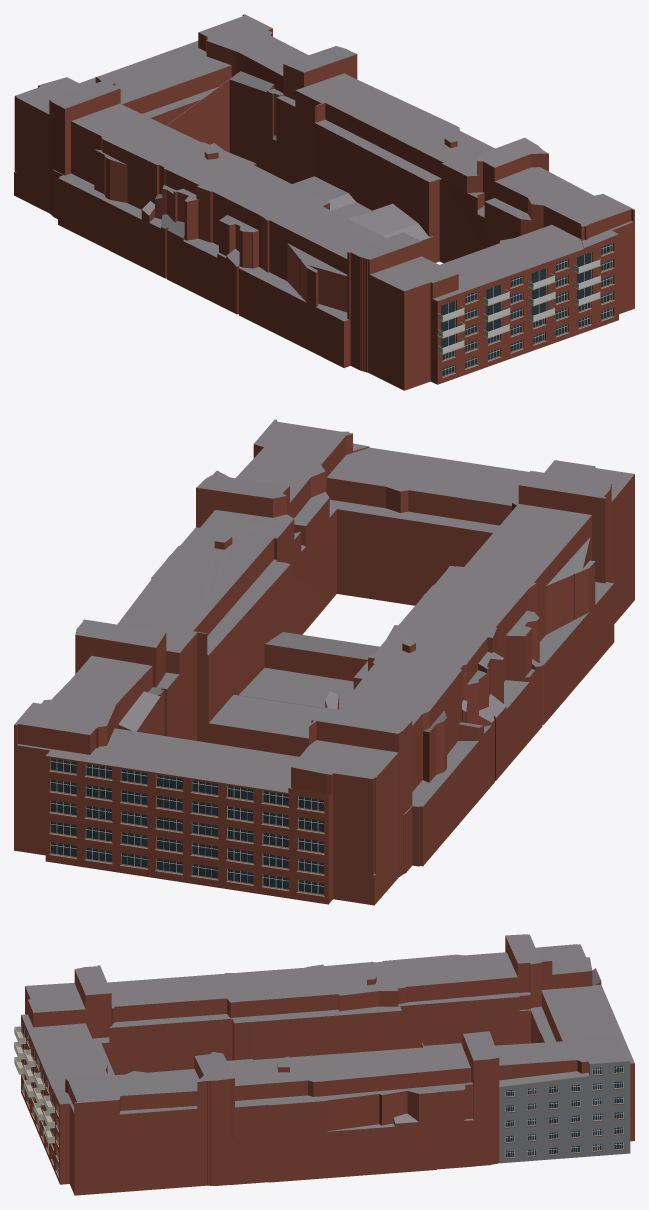
Rendered from recipe-large-balboaplein-48-147097.glb.
3 views of the same model, one above another, from view 1: azimuth 30°, elevation 25°; view 2: azimuth 150°, elevation 25°; view 3: azimuth 270°, elevation 25° (orthographic). The views are drawn at different scales.
Visible parts, largest first — view 1: balboaplein-48-147097; view 2: balboaplein-48-147097; view 3: balboaplein-48-147097.
Boxes of the visible parts, x1,y1,x2,y2 form: balboaplein-48-147097: (14,14,634,390); balboaplein-48-147097: (14,419,634,905); balboaplein-48-147097: (14,934,634,1195).
Size of the model in its own units: 65.14 by 20.29 by 107.
